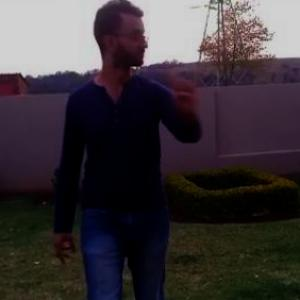takeoff-hand: (170, 58, 206, 113)
